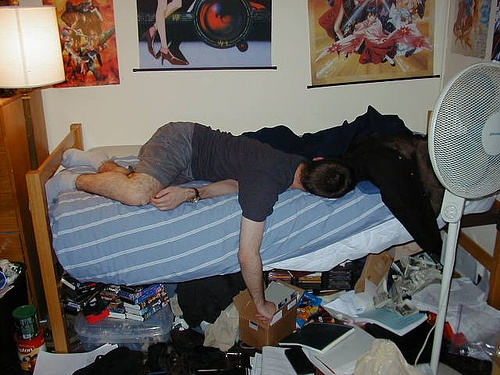head: (302, 155, 353, 198)
person: (48, 119, 401, 323)
